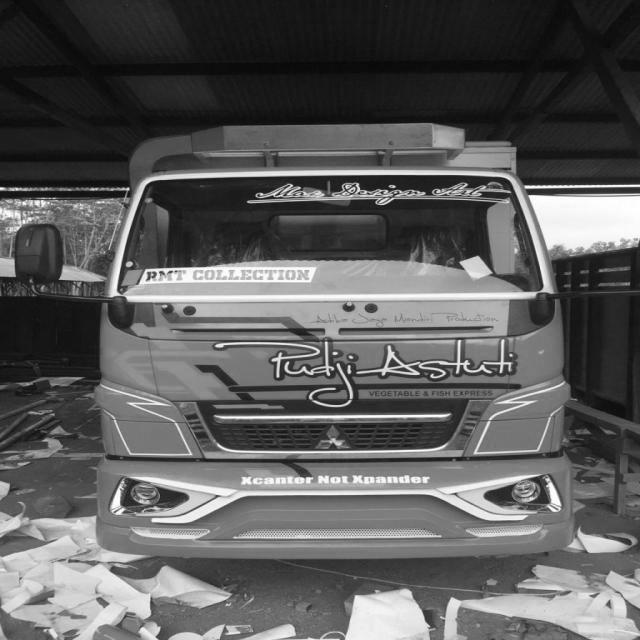truck: (57, 118, 612, 573)
